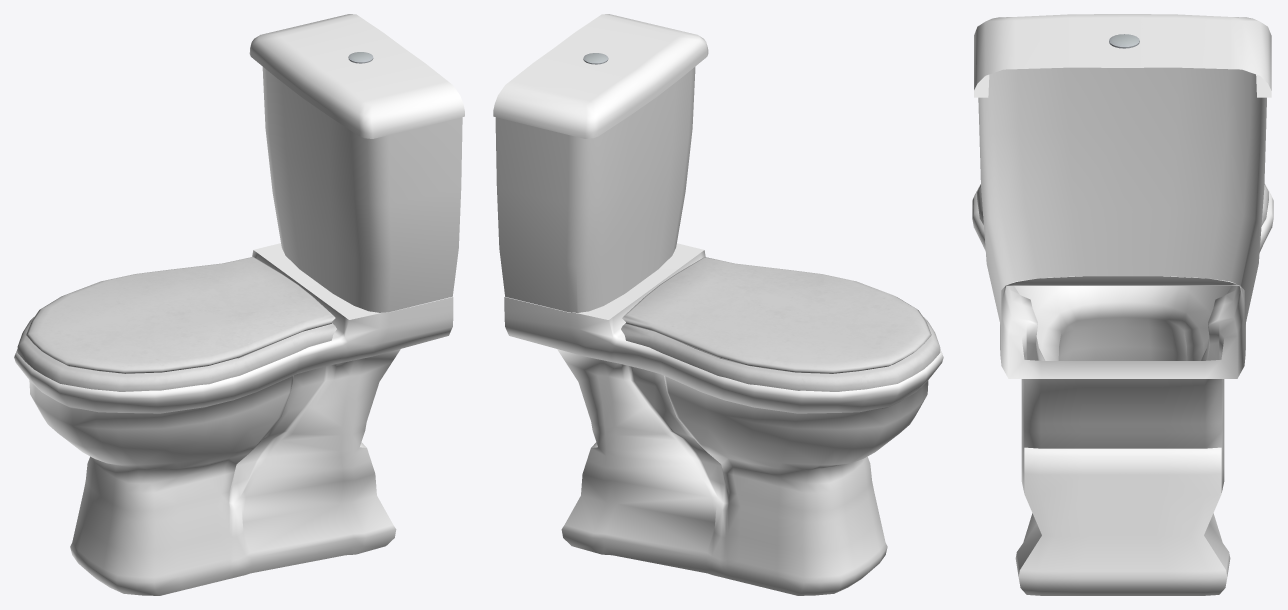
File: Toilet01.FBX
The picture shows the model from 3 angles, left to right: view 1: azimuth 30°, elevation 25°; view 2: azimuth 150°, elevation 25°; view 3: azimuth 270°, elevation 25°; orthographic projection. The views are drawn at different scales.
Parts seen in each view (by area): view 1: Toilet01; view 2: Toilet01; view 3: Toilet01.
Part boxes in pixels (x1,y1,x2,y2): Toilet01: [14, 14, 464, 595]; Toilet01: [493, 14, 943, 595]; Toilet01: [972, 14, 1273, 595].
Bounding box in the file's own units: 37.28 × 43.68 × 21.1.
